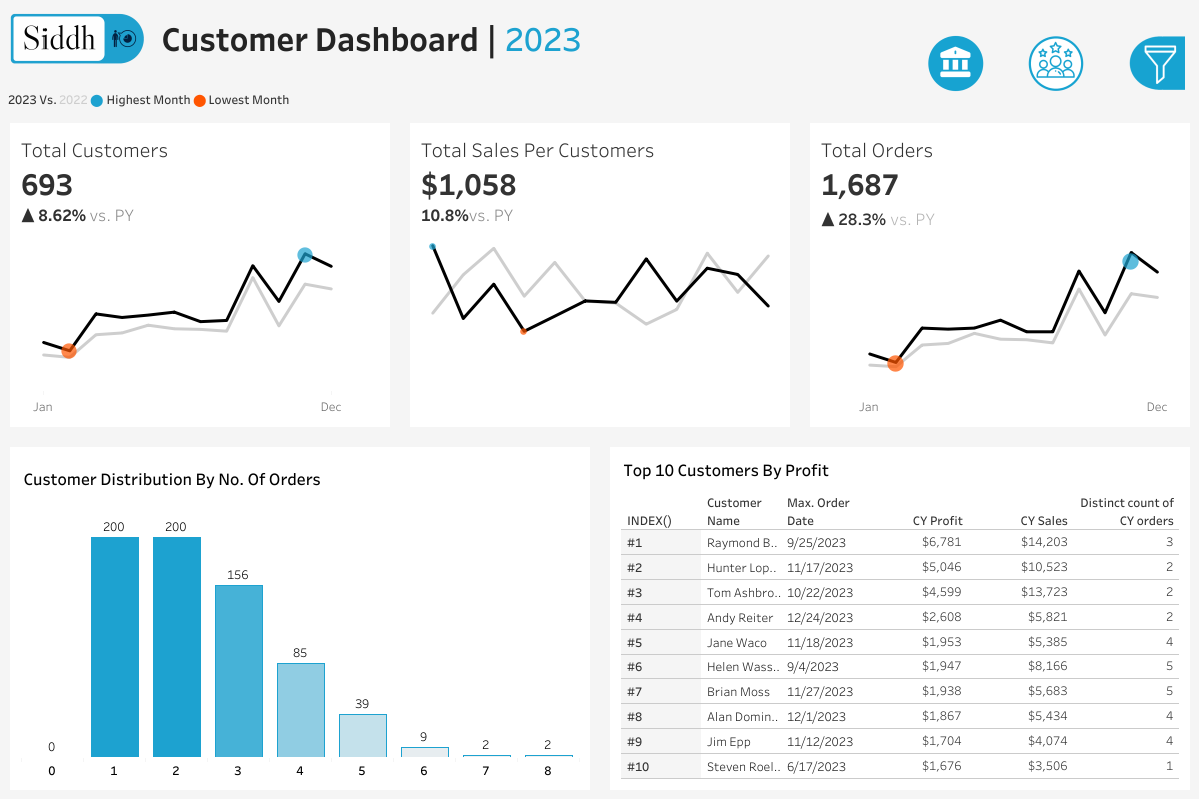

Layout of this report page (visuals, bound fields, positions):
{"tool":"tableau","page":{"name":"Customer Dashboard","canvas":[1200,800],"ordinal":0},"visuals":[{"type":"image","param":"Image/final logo of my project.png","box":[0,0,155,75]},{"type":"text","box":[155,0,717,75]},{"type":"blank","box":[976,10,212,89]},{"type":"dashboard-object","box":[905,31,101,65]},{"type":"dashboard-object","box":[1006,31,101,65]},{"type":"worksheet","title":"Legends of KPI","mark":"Automatic","box":[0,75,1200,48]},{"type":"text","box":[976,99,212,47]},{"type":"worksheet","title":" Customer KPI","mark":"Line","rows":["Calculation_479914863586680837"],"cols":["Order Date"],"box":[0,123,400,314]},{"type":"worksheet","title":"KPI Sales Per Customer","mark":"Line","rows":["Calculation_479914863595716622"],"cols":["Order Date"],"box":[400,123,400,314]},{"type":"worksheet","title":"KPI Orders","mark":"Automatic","rows":["Calculation_479914863619768341"],"cols":["Order Date"],"box":[800,123,400,314]},{"type":"parameter","param":"[Parameters].[Parameter 1]","box":[976,146,212,60]},{"type":"text","box":[976,206,212,39]},{"type":"filter","title":" Customer KPI","param":"[federated.0em19x71oi4ypa1cmuwwi1ngmi3q].[none:Category:nk]","box":[976,245,212,70]},{"type":"filter","title":" Customer KPI","param":"[federated.0em19x71oi4ypa1cmuwwi1ngmi3q].[none:Sub-Category:nk]","box":[976,315,212,70]},{"type":"blank","box":[976,385,212,68]},{"type":"text","box":[976,453,212,39]},{"type":"text","box":[17,454,566,49]},{"type":"text","box":[617,454,566,30]},{"type":"worksheet","title":"Top Customers","mark":"Automatic","rows":["Calculation_479914863631196187","Customer Name","Order Date"],"box":[617,484,566,299]},{"type":"filter","title":" Customer KPI","param":"[federated.0em19x71oi4ypa1cmuwwi1ngmi3q].[none:Region:nk]","box":[976,492,212,70]},{"type":"worksheet","title":"Customer Distribution","mark":"Automatic","rows":["Calculation_479914863568396288"],"cols":["Calculation_479914863618998291"],"box":[17,503,566,280]},{"type":"filter","title":" Customer KPI","param":"[federated.0em19x71oi4ypa1cmuwwi1ngmi3q].[none:State:nk]","box":[976,562,212,70]},{"type":"filter","title":" Customer KPI","param":"[federated.0em19x71oi4ypa1cmuwwi1ngmi3q].[none:City:nk]","box":[976,632,212,70]}]}

Visuals, with their boxes in screenshot pixels (x1, y1, x2, y2), scaled from the page's 1200x800 canvas onto the 1199x799 screenshot:
image: (0,0,155,75)
text: (155,0,871,75)
blank: (975,10,1187,99)
dashboard-object: (904,31,1005,96)
dashboard-object: (1005,31,1106,96)
"Legends of KPI" worksheet: (0,75,1198,123)
text: (975,99,1187,146)
" Customer KPI" worksheet (Line marks): (0,123,400,436)
"KPI Sales Per Customer" worksheet (Line marks): (400,123,799,436)
"KPI Orders" worksheet: (799,123,1198,436)
parameter: (975,146,1187,206)
text: (975,206,1187,245)
" Customer KPI" filter: (975,245,1187,315)
" Customer KPI" filter: (975,315,1187,385)
blank: (975,385,1187,452)
text: (975,452,1187,491)
text: (17,453,583,502)
text: (616,453,1182,483)
"Top Customers" worksheet: (616,483,1182,782)
" Customer KPI" filter: (975,491,1187,561)
"Customer Distribution" worksheet: (17,502,583,782)
" Customer KPI" filter: (975,561,1187,631)
" Customer KPI" filter: (975,631,1187,701)
